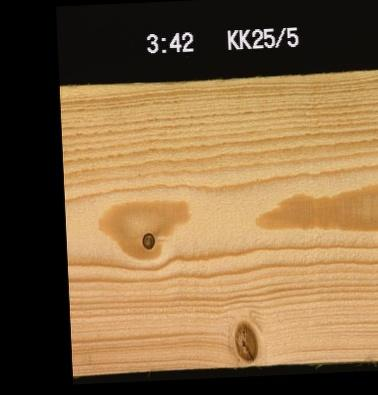dry_knot: (137, 229, 155, 250)
sound_knot: (231, 319, 258, 363)
